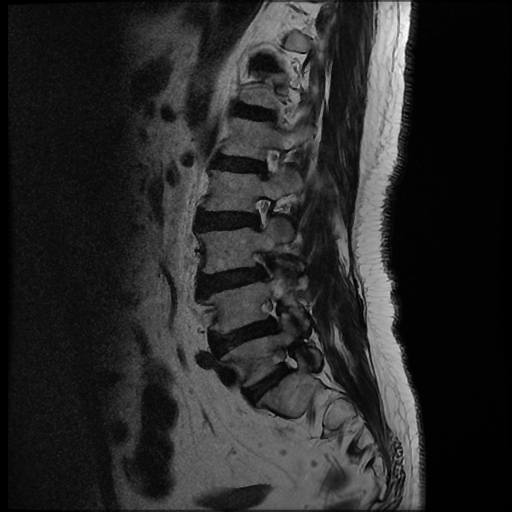LFS0: (244, 136, 295, 188), (243, 189, 290, 240)
LFS2: (251, 294, 296, 343)
LFS3: (242, 243, 293, 291)
